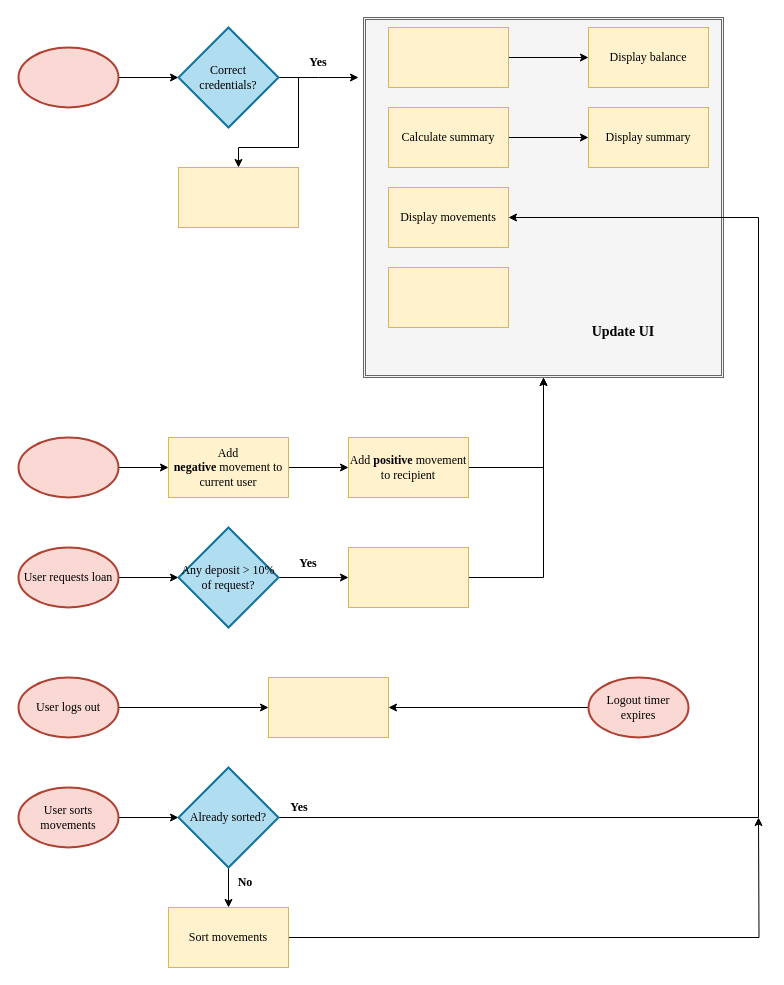
The diagram is 784 pixels wide and 985 high, and some of its shapes have lost their labels. Each missing label, with the centre of its shape:
Add positive movement to current user: [408,577]
Calculate balance: [448,57]
Display UI and welcome message: [238,197]
Log user out (Hide UI): [328,707]
Start/restart logout timer: [448,297]
User logs in: [68,77]
User transfers money: [68,467]
